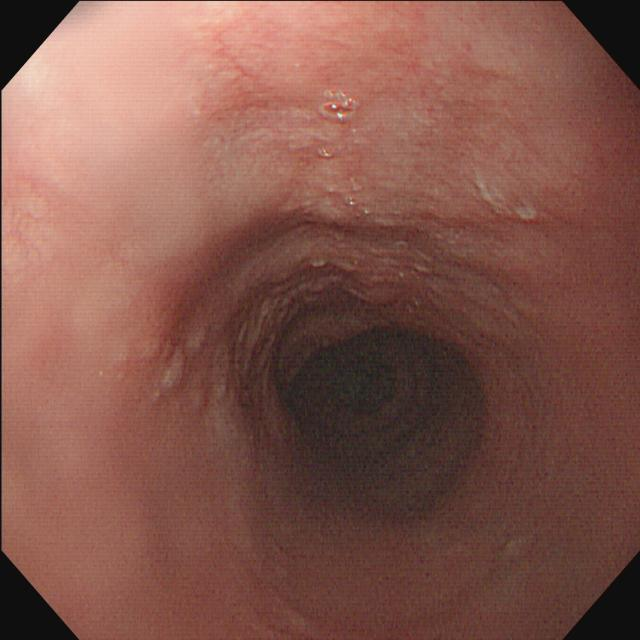A: (223, 254, 344, 369)
E: (290, 331, 448, 473)
T: (321, 85, 364, 124)
